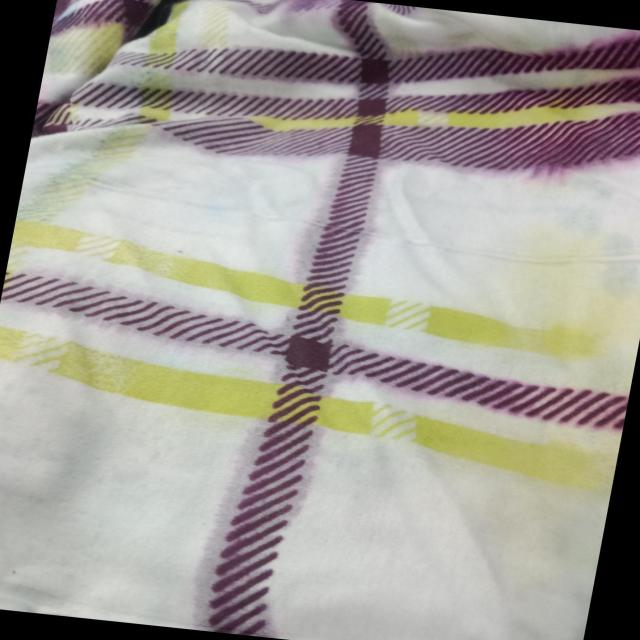baekra: (36, 22, 640, 465), (179, 429, 328, 640)
